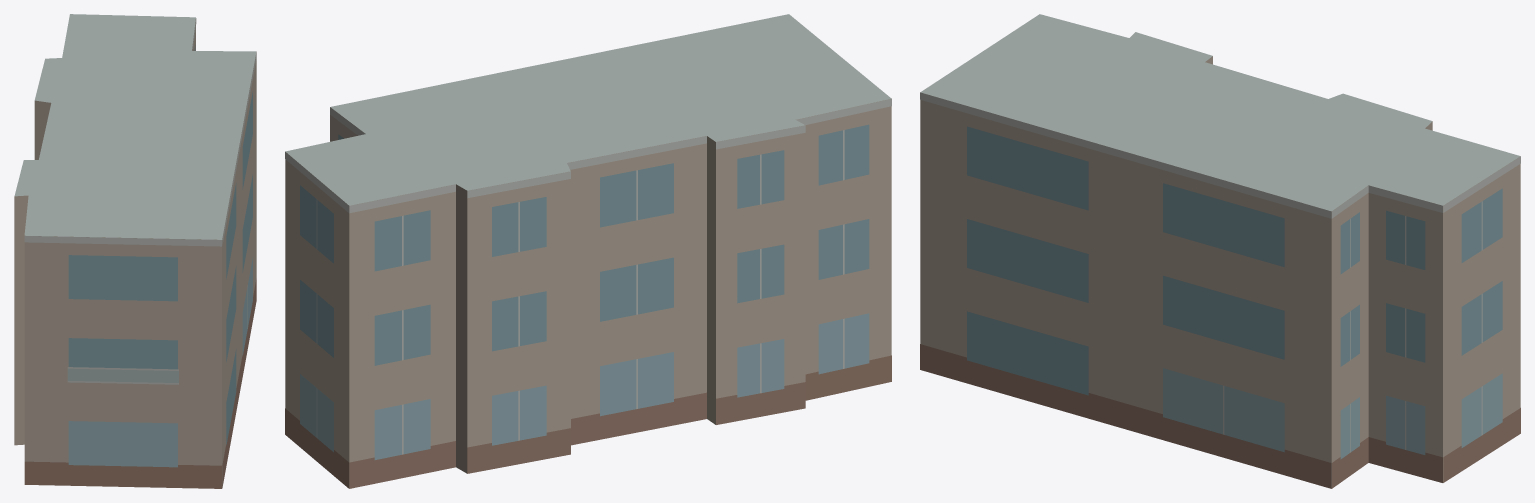
Rendered from survey-upis-33032970.glb.
3 views of the same model, side by side, from view 1: azimuth 30°, elevation 25°; view 2: azimuth 150°, elevation 25°; view 3: azimuth 270°, elevation 25° (orthographic). The views are drawn at different scales.
Parts seen in each view (by area): view 1: survey-upis-33032970.tmp; view 2: survey-upis-33032970.tmp; view 3: survey-upis-33032970.tmp.
Part boxes in pixels (bbox=[...]): survey-upis-33032970.tmp: bbox=[14, 14, 256, 488]; survey-upis-33032970.tmp: bbox=[285, 14, 891, 488]; survey-upis-33032970.tmp: bbox=[920, 14, 1520, 488].
Bounding box in the file's own units: 13.97 × 9.15 × 17.96.
